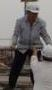hard-hat: (0, 41, 9, 54)
